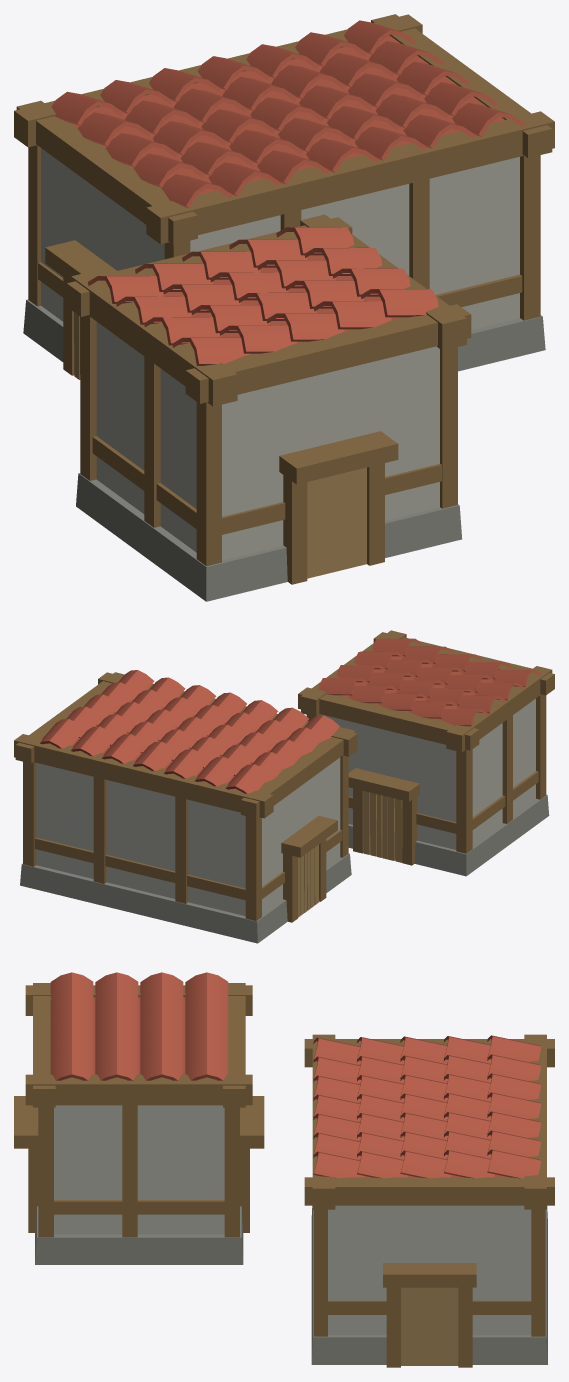
File: Houses.glb
3 views of the same model, one above another, from view 1: azimuth 30°, elevation 25°; view 2: azimuth 150°, elevation 25°; view 3: azimuth 270°, elevation 25° (orthographic). The views are drawn at different scales.
Parts seen in each view (by area): view 1: Houses_SecondAge_3_Level2; view 2: Houses_SecondAge_3_Level2; view 3: Houses_SecondAge_3_Level2.
Part boxes in pixels (bbox=[...]): Houses_SecondAge_3_Level2: bbox=[14, 14, 554, 601]; Houses_SecondAge_3_Level2: bbox=[14, 630, 554, 943]; Houses_SecondAge_3_Level2: bbox=[14, 972, 554, 1367].
Size of the model in its own units: 1.35 by 0.5908 by 1.46.
